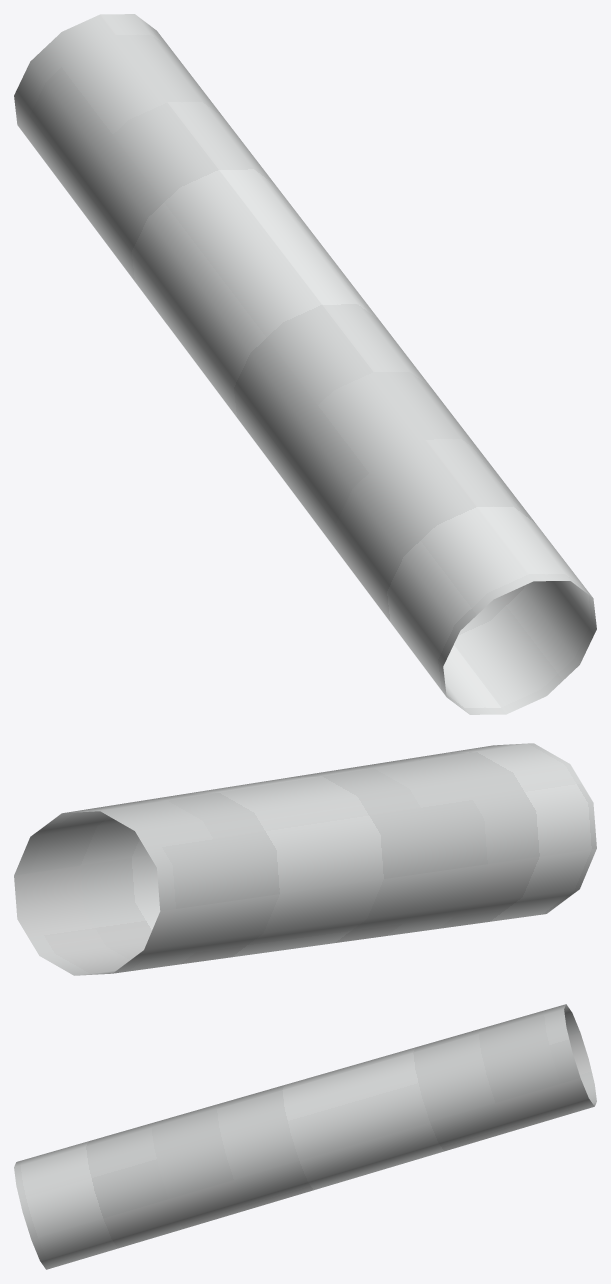
The model's file is luminairearm_caltrans12ftstraight_c3.obj.
3 renders of one model, top to bottom at view 1: azimuth 30°, elevation 25°; view 2: azimuth 150°, elevation 25°; view 3: azimuth 270°, elevation 25°, orthographic. The views are drawn at different scales.
Parts seen in each view (by area): view 1: luminairearm_caltrans12ftstraight_c3; view 2: luminairearm_caltrans12ftstraight_c3; view 3: luminairearm_caltrans12ftstraight_c3.
Part boxes in pixels (bbox=[...]): luminairearm_caltrans12ftstraight_c3: bbox=[14, 14, 596, 714]; luminairearm_caltrans12ftstraight_c3: bbox=[14, 743, 596, 975]; luminairearm_caltrans12ftstraight_c3: bbox=[14, 1004, 596, 1269].
Size of the model in its own units: 0.205 by 0.5129 by 1.06.
